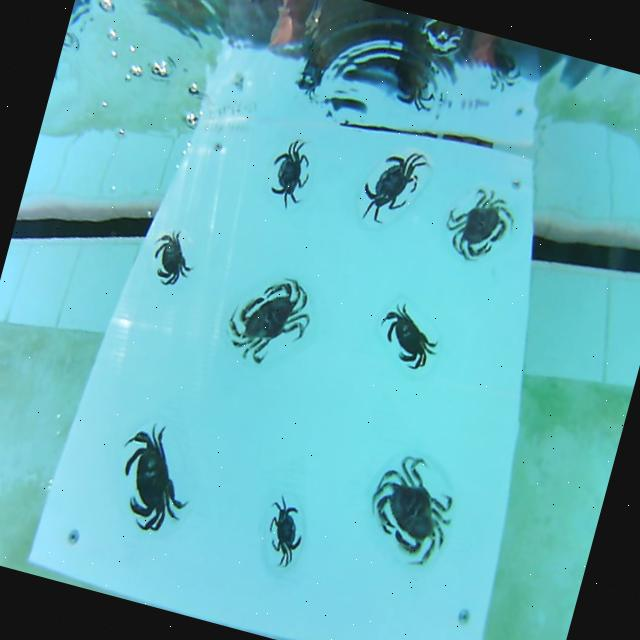green_crab: (363, 153, 426, 221), (270, 139, 309, 207), (269, 496, 301, 566)
jonah_crab: (372, 456, 452, 564), (229, 278, 310, 363), (446, 188, 513, 259)
rock_crab: (124, 424, 187, 530), (381, 304, 436, 369), (153, 232, 192, 285)
